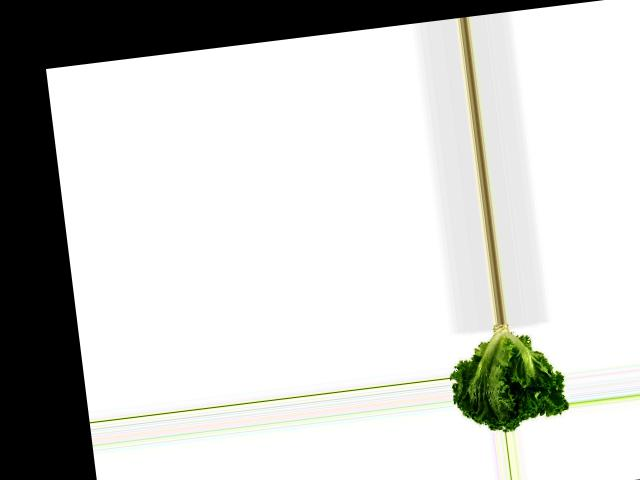lettuce: (444, 317, 569, 436)
